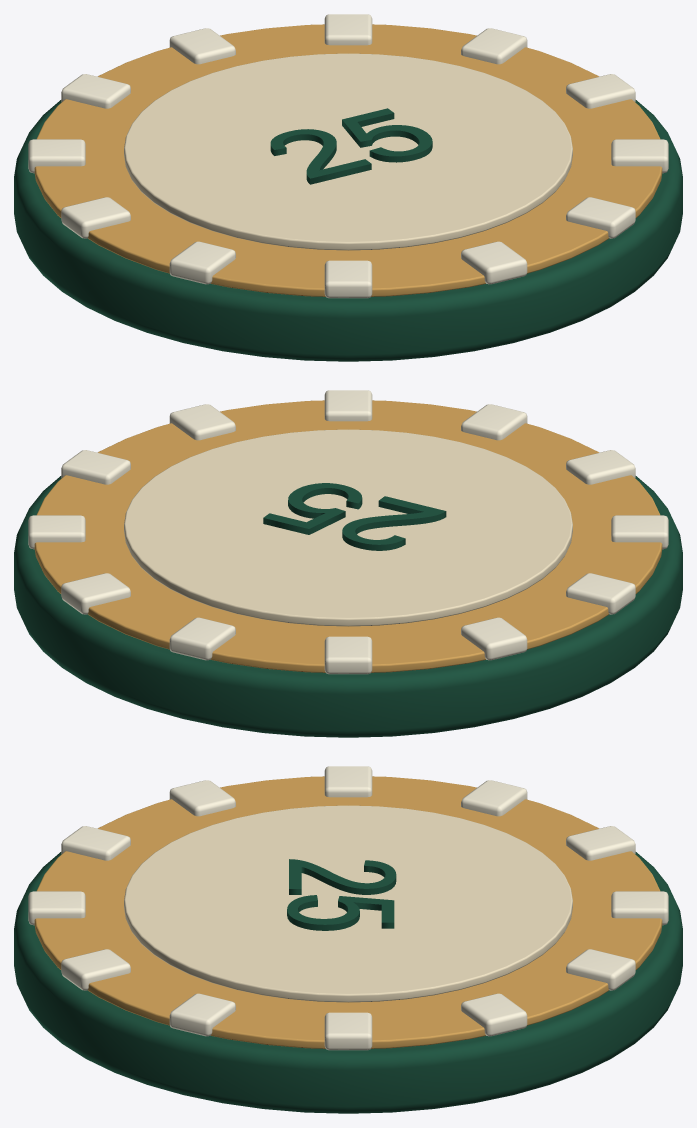
Rendered from casino-chip.glb.
The picture shows the model from 3 angles, top to bottom: view 1: azimuth 30°, elevation 25°; view 2: azimuth 150°, elevation 25°; view 3: azimuth 270°, elevation 25°; orthographic projection.
Parts seen in each view (by area): view 1: Ivory inset, Gold rim, Green ceramic chip, Denomination, Edge inlay.003, Edge inlay.005, Edge inlay.004, Edge inlay.002, Edge inlay.006, Edge inlay, Edge inlay.008, Edge inlay.001 (+4 smaller); view 2: Ivory inset, Gold rim, Green ceramic chip, Denomination, Edge inlay.007, Edge inlay.009, Edge inlay.008, Edge inlay.006, Edge inlay.010, Edge inlay, Edge inlay.004, Edge inlay.005 (+4 smaller); view 3: Ivory inset, Gold rim, Green ceramic chip, Denomination, Edge inlay.001, Edge inlay.011, Edge inlay, Edge inlay.002, Edge inlay.010, Edge inlay.004, Edge inlay.008, Edge inlay.003 (+4 smaller).
Part boxes in pixels (x1,y1,x2,y2): Ivory inset: (124,53,572,250); Gold rim: (34,24,662,296); Green ceramic chip: (14,100,682,361); Denomination: (270,108,432,184); Edge inlay.003: (461,241,527,284); Edge inlay.005: (169,241,235,284); Edge inlay.004: (324,260,372,298); Edge inlay.002: (566,197,635,238); Edge inlay.006: (61,197,130,238); Edge inlay: (566,74,635,108); Edge inlay.008: (61,74,130,108); Edge inlay.001: (611,139,668,173); Ivory inset: (124,429,572,626); Gold rim: (34,400,662,672); Green ceramic chip: (14,476,682,737); Denomination: (263,483,446,550); Edge inlay.007: (461,617,527,660); Edge inlay.009: (169,617,235,660); Edge inlay.008: (324,636,372,674); Edge inlay.006: (566,573,635,614); Edge inlay.010: (61,573,130,614); Edge inlay: (61,450,130,484); Edge inlay.004: (566,450,635,484); Edge inlay.005: (611,515,668,549); Ivory inset: (124,805,572,1002); Gold rim: (34,776,662,1048); Green ceramic chip: (14,852,682,1113); Denomination: (287,859,396,930); Edge inlay.001: (169,993,235,1036); Edge inlay.011: (461,993,527,1036); Edge inlay: (324,1012,372,1050); Edge inlay.002: (61,949,130,990); Edge inlay.010: (566,949,635,990); Edge inlay.004: (61,826,130,860); Edge inlay.008: (566,826,635,860); Edge inlay.003: (28,891,85,925).
Size of the model in its own units: 0.14 by 0.0197 by 0.14.
